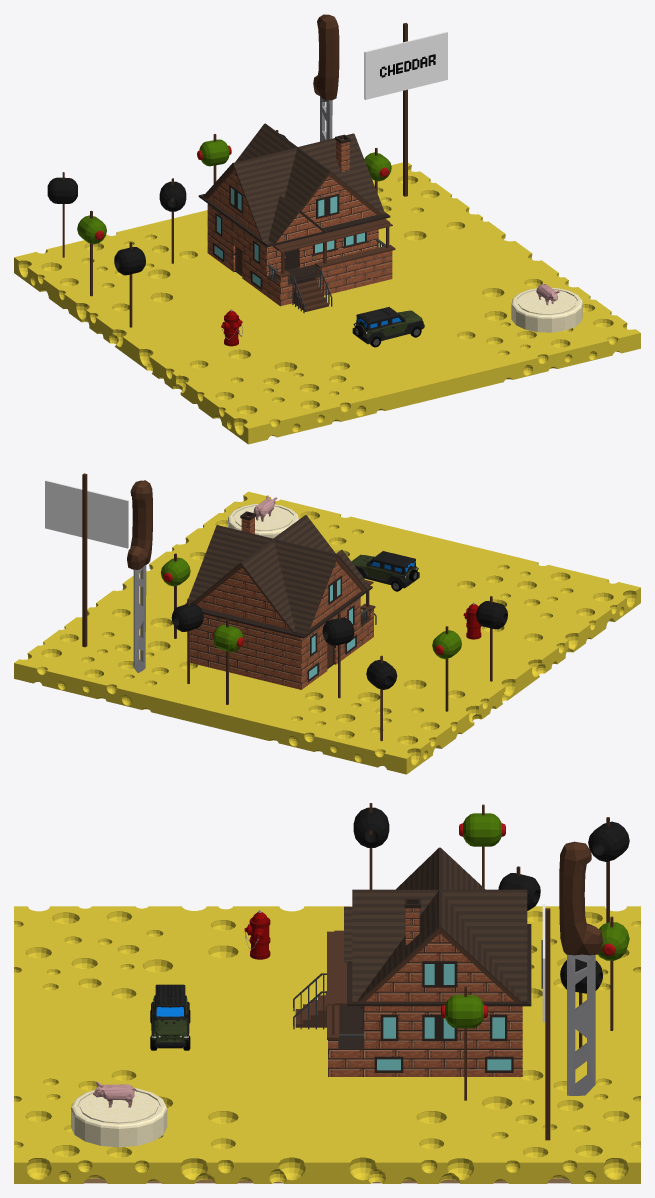
3 views of the same model, one above another, from view 1: azimuth 30°, elevation 25°; view 2: azimuth 150°, elevation 25°; view 3: azimuth 270°, elevation 25° (orthographic). The views are drawn at different scales.
Parts seen in each view (by area): view 1: Cube.022, Cube.469, Cube.023, Cylinder.016, Cube.024, VEHICLES_JEEP, Sphere.017, Sphere.016, Sphere.020, Sphere.018, Sphere.022, Sphere.019; view 2: Cube.022, Cube.469, Cube.023, Cube.024, VEHICLES_JEEP, Cylinder.016, Sphere.017, Sphere.020, Sphere.021, Sphere.016, Sphere.018, Sphere.022 (+2 smaller); view 3: Cube.022, Cube.469, Cube.024, Cylinder.016, VEHICLES_JEEP, Cube.023, Sphere.019, Sphere.016, Sphere.018, Sphere.017, Sphere.022, OBJRANDOM_FIRE_HYDRANT (+4 smaller).
Part boxes in pixels (x1=…): Cube.022: x1=14, y1=162, x2=640, y2=444; Cube.469: x1=198, y1=123, x2=395, y2=313; Cube.023: x1=364, y1=23, x2=447, y2=196; Cylinder.016: x1=511, y1=287, x2=582, y2=332; Cube.024: x1=313, y1=14, x2=339, y2=141; VEHICLES_JEEP: x1=352, y1=306, x2=424, y2=347; Sphere.017: x1=114, y1=242, x2=145, y2=327; Sphere.016: x1=47, y1=172, x2=77, y2=257; Sphere.020: x1=159, y1=178, x2=186, y2=263; Sphere.018: x1=77, y1=210, x2=106, y2=296; Sphere.022: x1=197, y1=134, x2=231, y2=183; Sphere.019: x1=364, y1=148, x2=391, y2=192; Cube.022: x1=14, y1=491, x2=640, y2=774; Cube.469: x1=185, y1=511, x2=376, y2=689; Cube.023: x1=45, y1=473, x2=128, y2=647; Cube.024: x1=127, y1=480, x2=152, y2=672; VEHICLES_JEEP: x1=351, y1=551, x2=419, y2=591; Cylinder.016: x1=228, y1=504, x2=298, y2=538; Sphere.017: x1=476, y1=596, x2=507, y2=681; Sphere.020: x1=322, y1=612, x2=354, y2=698; Sphere.021: x1=171, y1=598, x2=203, y2=683; Sphere.016: x1=366, y1=655, x2=397, y2=741; Sphere.018: x1=432, y1=626, x2=461, y2=711; Sphere.022: x1=212, y1=619, x2=244, y2=704; Cube.022: x1=14, y1=906, x2=640, y2=1183; Cube.469: x1=293, y1=847, x2=531, y2=1076; Cube.024: x1=559, y1=841, x2=602, y2=1095; Cylinder.016: x1=71, y1=1088, x2=167, y2=1147; VEHICLES_JEEP: x1=150, y1=984, x2=190, y2=1050; Cube.023: x1=541, y1=904, x2=550, y2=1140; Sphere.019: x1=441, y1=986, x2=487, y2=1100; Sphere.016: x1=588, y1=817, x2=629, y2=922; Sphere.018: x1=459, y1=804, x2=505, y2=887; Sphere.017: x1=353, y1=803, x2=389, y2=889; Sphere.022: x1=598, y1=916, x2=629, y2=1030; OBJRANDOM_FIRE_HYDRANT: x1=244, y1=910, x2=270, y2=959.
Size of the model in its own units: 3917 by 1957 by 4000.
33 materials, 5 textured.
